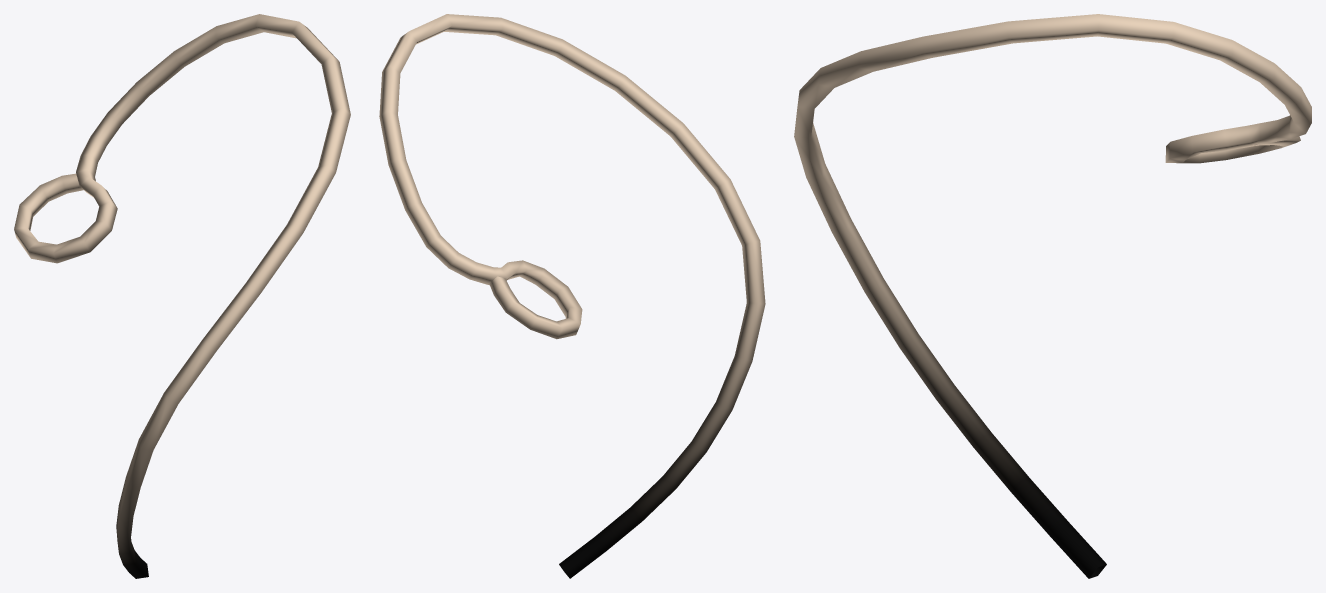
File: YoyoRope.fbx
The picture shows the model from 3 angles, left to right: view 1: azimuth 30°, elevation 25°; view 2: azimuth 150°, elevation 25°; view 3: azimuth 270°, elevation 25°; orthographic projection. The views are drawn at different scales.
Visible parts, largest first — view 1: YoyoRope; view 2: YoyoRope; view 3: YoyoRope.
Part boxes in pixels (box(x1,y1,x2,y2)): YoyoRope: box(14, 14, 350, 578); YoyoRope: box(379, 14, 765, 578); YoyoRope: box(794, 14, 1311, 578).
Size of the model in its own units: 1.33 by 2.45 by 1.73.
